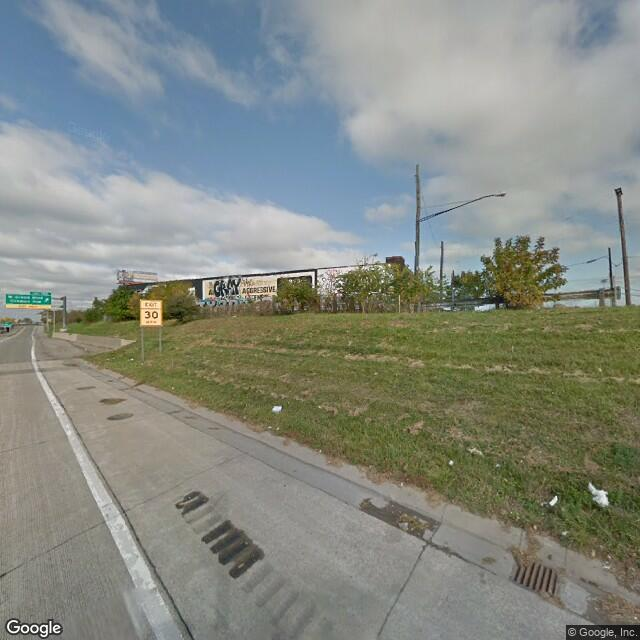litter: (585, 482, 607, 512), (270, 404, 282, 415), (545, 494, 557, 505), (447, 459, 456, 468), (562, 531, 569, 536), (534, 524, 538, 530), (129, 357, 135, 360), (171, 385, 175, 389), (496, 460, 500, 462)
